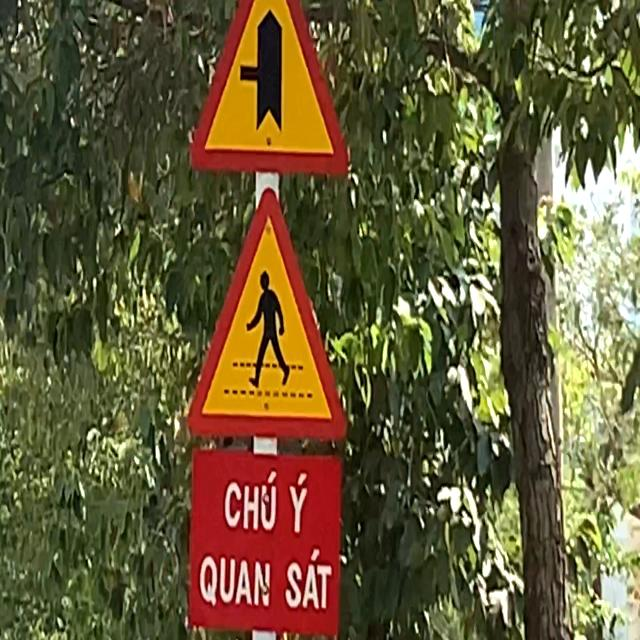Nguoi di bo cat ngang: (182, 184, 351, 443)
